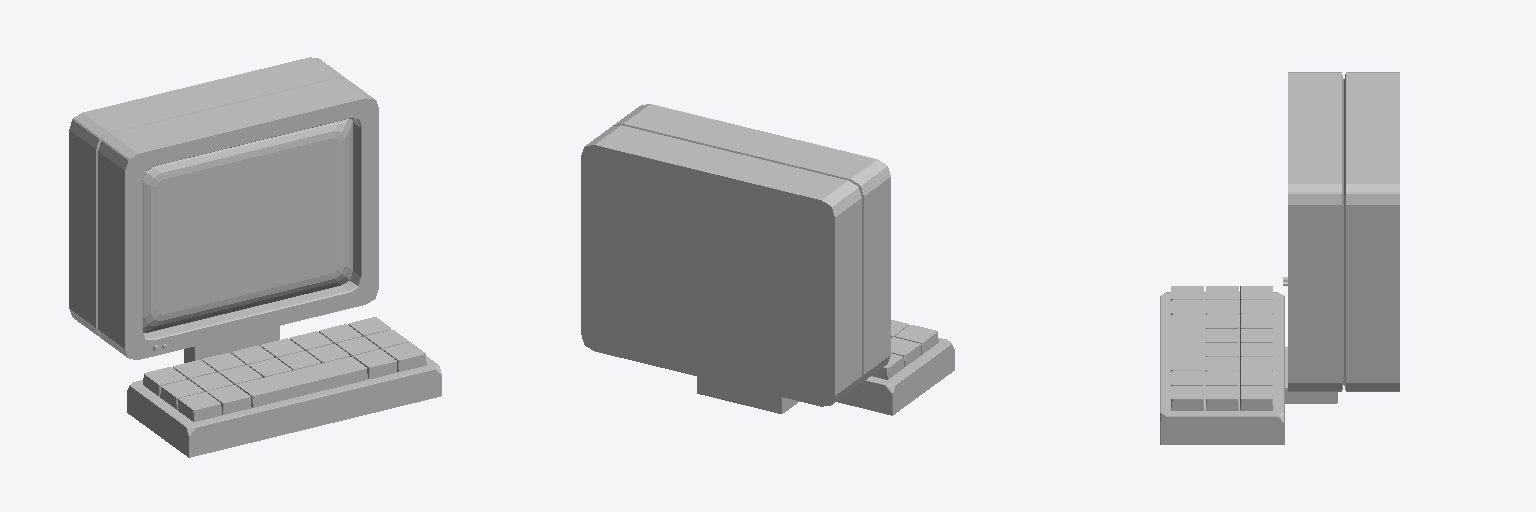
File: computer final.obj
3 renders of one model, left to right at view 1: azimuth 30°, elevation 25°; view 2: azimuth 150°, elevation 25°; view 3: azimuth 270°, elevation 25°, orthographic.
Visible parts, largest first — view 1: Computer_Mesh.001; view 2: Computer_Mesh.001; view 3: Computer_Mesh.001.
Boxes of the visible parts, box(x1,y1,x2,y2) form: Computer_Mesh.001: box(69, 57, 441, 457); Computer_Mesh.001: box(581, 104, 954, 415); Computer_Mesh.001: box(1160, 72, 1399, 444).
Bounding box in the file's own units: 20.74 × 19.84 × 16.95.